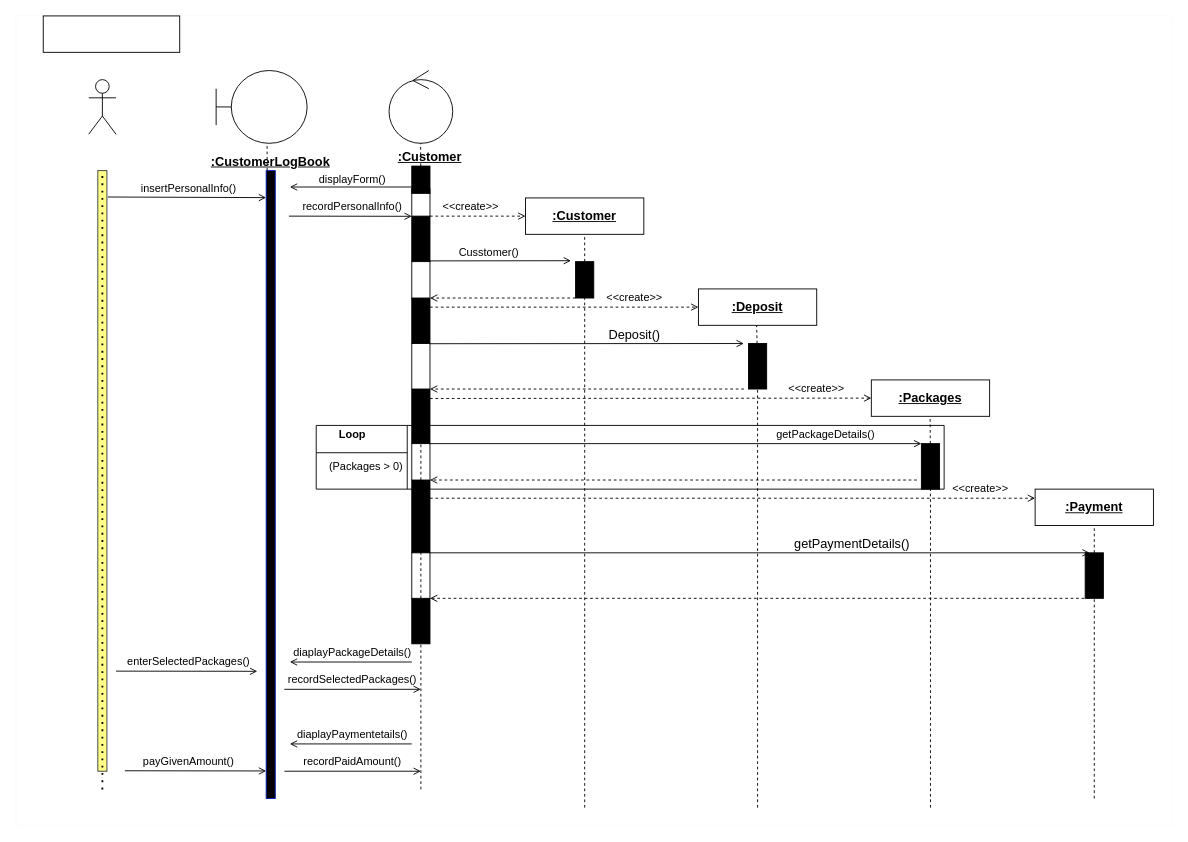
Image size: 1188x842. Some labels were removed from this diagram. The box of each missing label's shape, as (x1, y1, x2, y2) in pixels:
SD: RegisterCustomer: (42, 15, 180, 52)
User: (88, 79, 116, 134)
